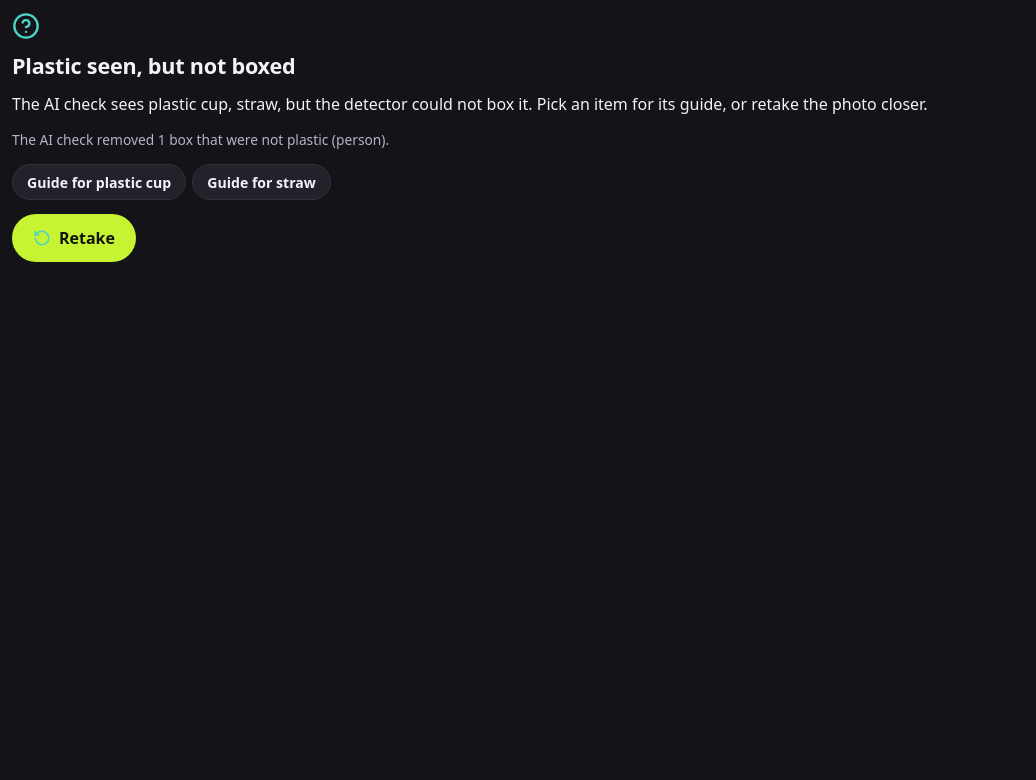
Gemini vision second opinion › offers guides for items the AI saw but the detector did not box
This screenshot has width=1036, height=780.
Check: the heading "Plastic seen, but not boxed" is shown, box [12, 54, 296, 78]
Click the button "Guide for plastic cup" at {"x": 99, "y": 182}, box [12, 164, 186, 200]
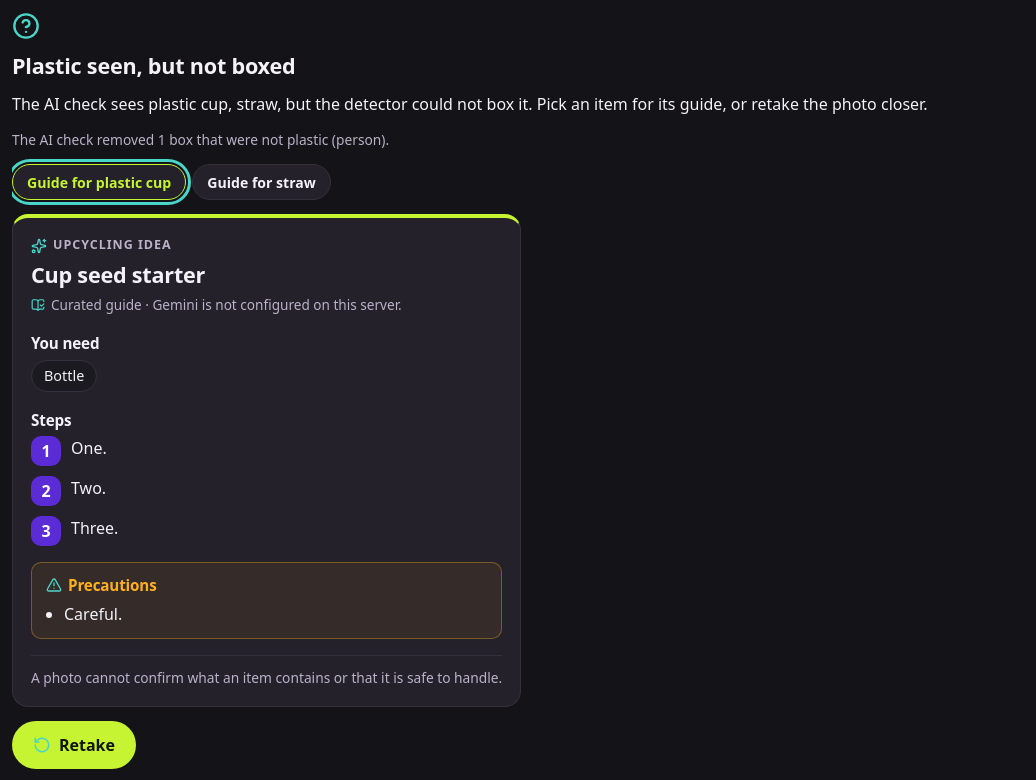
Check: the heading "Cup seed starter" is shown, box [31, 260, 205, 289]
